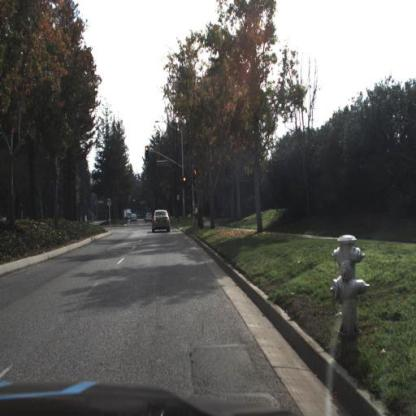car: (152, 210, 173, 232)
trafficLight-Red: (182, 176, 187, 192), (194, 169, 199, 184), (145, 145, 150, 158)
truck: (124, 208, 133, 222)
